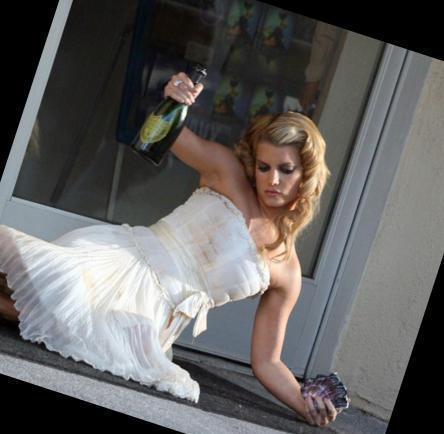Drunk: (255, 147, 300, 206)
